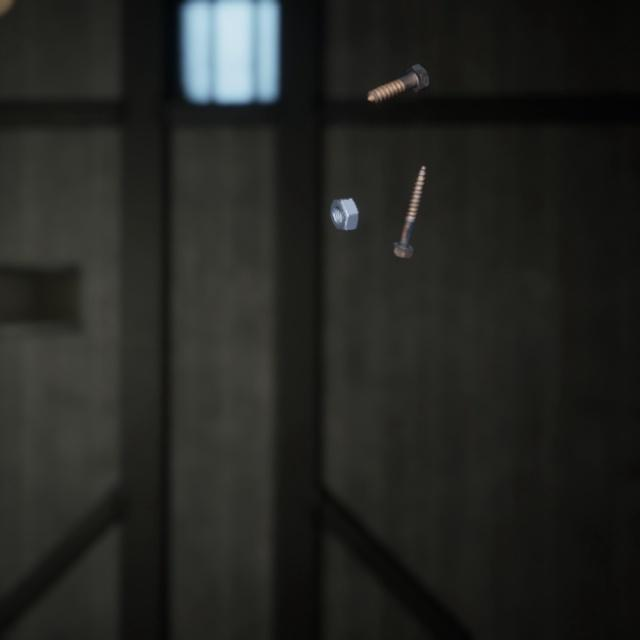bolt: (386, 146, 429, 248), (362, 49, 433, 97)
nut: (326, 179, 365, 219)
